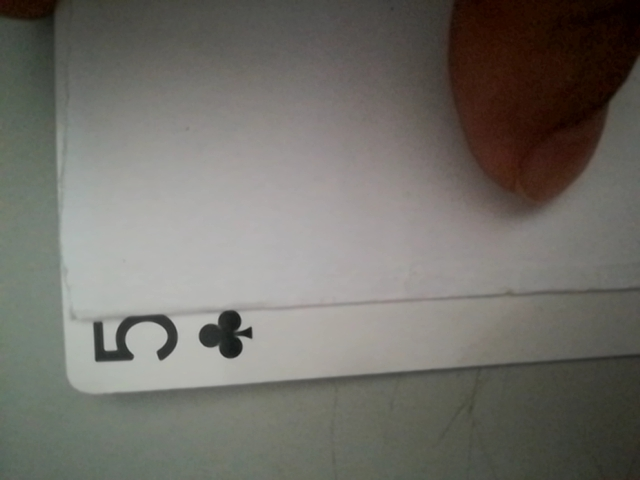mh 5: (76, 305, 256, 382)
